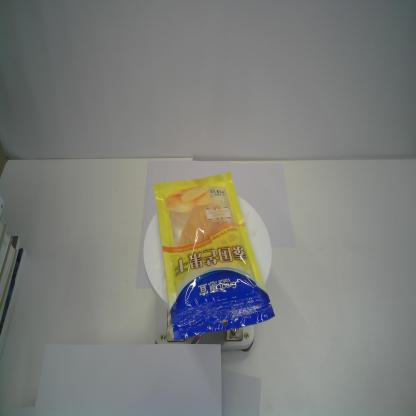Dried Fruit: (153, 171, 276, 341)
